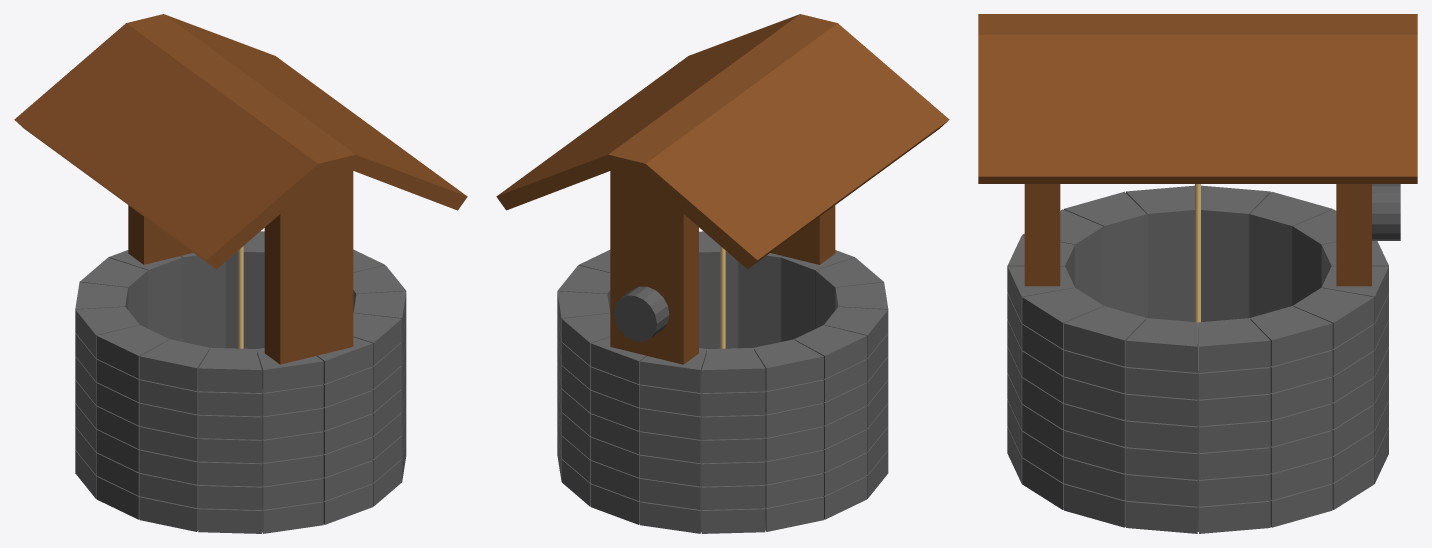
The model's file is Well.fbx.
3 renders of one model, left to right at view 1: azimuth 30°, elevation 25°; view 2: azimuth 150°, elevation 25°; view 3: azimuth 270°, elevation 25°, orthographic. The views are drawn at different scales.
Parts seen in each view (by area): view 1: Cylinder; view 2: Cylinder; view 3: Cylinder.
Part boxes in pixels (<box>): Cylinder: <box>14,14,467,533</box>; Cylinder: <box>496,14,949,533</box>; Cylinder: <box>978,14,1417,533</box>.
Bounding box in the file's own units: 334 × 414 × 385.
